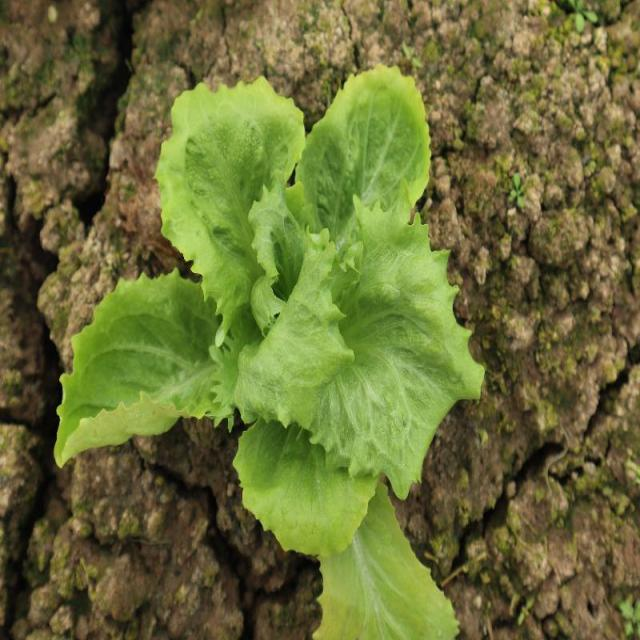crop: (57, 61, 486, 640)
